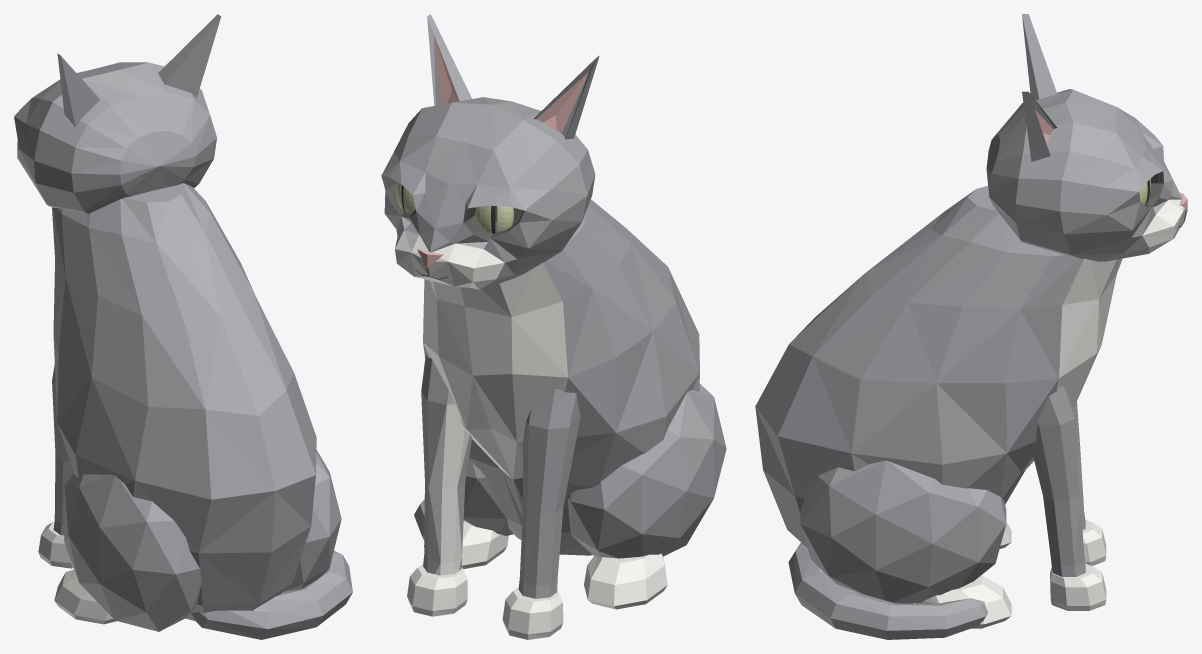
File: cat_v6.glb
3 renders of one model, left to right at view 1: azimuth 30°, elevation 25°; view 2: azimuth 150°, elevation 25°; view 3: azimuth 270°, elevation 25°, orthographic. The views are drawn at different scales.
Parts seen in each view (by area): view 1: Rounded_Torso_Graphite, Sculpted_Head_Graphite, Haunch_Right_Graphite, Haunch_Right_GraphiteMid, Rounded_Torso_GraphiteLight, Haunch_Right_GraphiteLight, Sculpted_Head_GraphiteMid, Curled_tail_Graphite, Haunch_Left_GraphiteMid, Curled_tail_GraphiteMid, Hind_paw_Right_Ivory, Sculpted_Head_GraphiteLight (+9 smaller); view 2: Rounded_Torso_Graphite, Sculpted_Head_Graphite, Rounded_Torso_Ivory, Haunch_Right_Graphite, Foreleg_Right_Graphite, Haunch_Right_GraphiteMid, Hind_paw_Right_Ivory, Sculpted_Head_Ivory, Sculpted_Head_GraphiteMid, Foreleg_Left_Graphite_Inner_White, Front_paw_Left_Ivory, Front_paw_Right_Ivory (+18 smaller); view 3: Rounded_Torso_Graphite, Sculpted_Head_Graphite, Haunch_Left_Graphite, Haunch_Left_GraphiteMid, Rounded_Torso_Ivory, Curled_tail_Graphite, Foreleg_Left_Graphite, Rounded_Torso_GraphiteLight, Curled_tail_GraphiteMid, Front_paw_Left_Ivory, Hind_paw_Left_Ivory, Sculpted_Head_GraphiteMid (+9 smaller).
Boxes of the visible parts, left/top/right/bottom form: Rounded_Torso_Graphite: left=52, top=183, right=316, bottom=620; Sculpted_Head_Graphite: left=14, top=62, right=216, bottom=213; Haunch_Right_Graphite: left=64, top=474, right=201, bottom=631; Haunch_Right_GraphiteMid: left=64, top=487, right=201, bottom=631; Rounded_Torso_GraphiteLight: left=133, top=201, right=211, bottom=553; Haunch_Right_GraphiteLight: left=68, top=475, right=190, bottom=631; Sculpted_Head_GraphiteMid: left=18, top=92, right=209, bottom=204; Curled_tail_Graphite: left=189, top=550, right=352, bottom=639; Haunch_Left_GraphiteMid: left=283, top=452, right=341, bottom=591; Curled_tail_GraphiteMid: left=253, top=567, right=352, bottom=628; Hind_paw_Right_Ivory: left=54, top=569, right=116, bottom=624; Sculpted_Head_GraphiteLight: left=26, top=70, right=166, bottom=160; Rounded_Torso_Graphite: left=423, top=199, right=699, bottom=555; Sculpted_Head_Graphite: left=381, top=97, right=595, bottom=289; Rounded_Torso_Ivory: left=423, top=263, right=567, bottom=479; Haunch_Right_Graphite: left=568, top=384, right=713, bottom=558; Foreleg_Right_Graphite: left=519, top=389, right=580, bottom=598; Haunch_Right_GraphiteMid: left=570, top=397, right=726, bottom=556; Hind_paw_Right_Ivory: left=584, top=553, right=667, bottom=609; Sculpted_Head_Ivory: left=395, top=230, right=504, bottom=289; Sculpted_Head_GraphiteMid: left=385, top=134, right=587, bottom=251; Foreleg_Left_Graphite_Inner_White: left=428, top=404, right=469, bottom=575; Front_paw_Left_Ivory: left=407, top=564, right=467, bottom=616; Front_paw_Right_Ivory: left=502, top=587, right=563, bottom=639; Rounded_Torso_Graphite: left=755, top=186, right=1084, bottom=547; Sculpted_Head_Graphite: left=986, top=89, right=1181, bottom=261; Haunch_Left_Graphite: left=800, top=460, right=1006, bottom=603; Haunch_Left_GraphiteMid: left=800, top=461, right=1006, bottom=594; Rounded_Torso_Ivory: left=1022, top=258, right=1122, bottom=471; Curled_tail_Graphite: left=795, top=544, right=987, bottom=639; Foreleg_Left_Graphite: left=1037, top=385, right=1085, bottom=576; Rounded_Torso_GraphiteLight: left=932, top=189, right=1052, bottom=309; Curled_tail_GraphiteMid: left=788, top=542, right=984, bottom=630; Front_paw_Left_Ivory: left=1050, top=563, right=1106, bottom=610; Hind_paw_Left_Ivory: left=916, top=575, right=1011, bottom=628; Sculpted_Head_GraphiteMid: left=987, top=106, right=1182, bottom=254.
Bounding box in the file's own units: 0.0762 × 0.15 × 0.1117.
